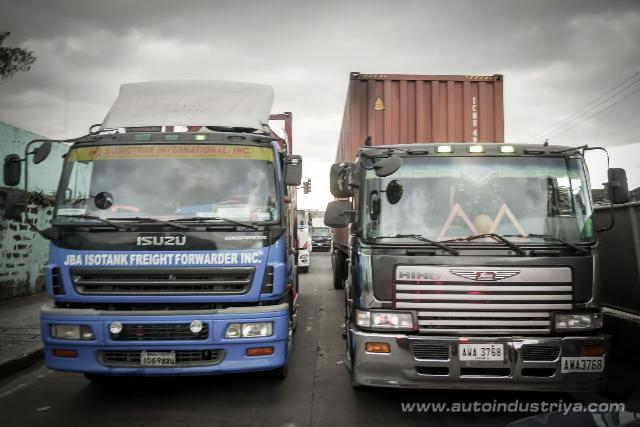truck: (0, 76, 309, 397), (325, 71, 633, 391)
